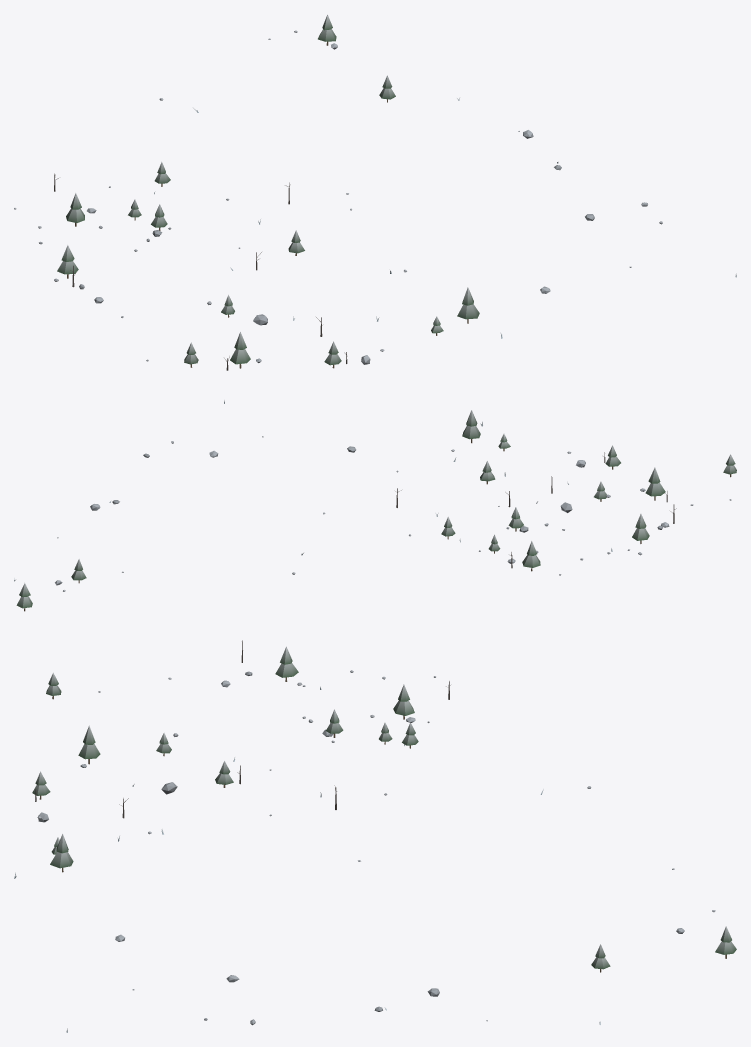
The model's file is frost_land_scatter_c16_10_lod1.glb.
The picture shows the model from 3 angles, top to bottom: view 1: azimuth 30°, elevation 25°; view 2: azimuth 150°, elevation 25°; view 3: azimuth 270°, elevation 25°; orthographic projection. The views are drawn at different scales.
Parts seen in each view (by area): view 1: frost_land_scatter_c16_10_lod1; view 2: frost_land_scatter_c16_10_lod1; view 3: frost_land_scatter_c16_10_lod1.
Boxes of the visible parts, left/top/right/bottom form: frost_land_scatter_c16_10_lod1: left=14, top=14, right=736, bottom=370; frost_land_scatter_c16_10_lod1: left=14, top=400, right=736, bottom=611; frost_land_scatter_c16_10_lod1: left=14, top=640, right=736, bottom=1032.
Bounding box in the file's own units: 252 × 41.14 × 258.
